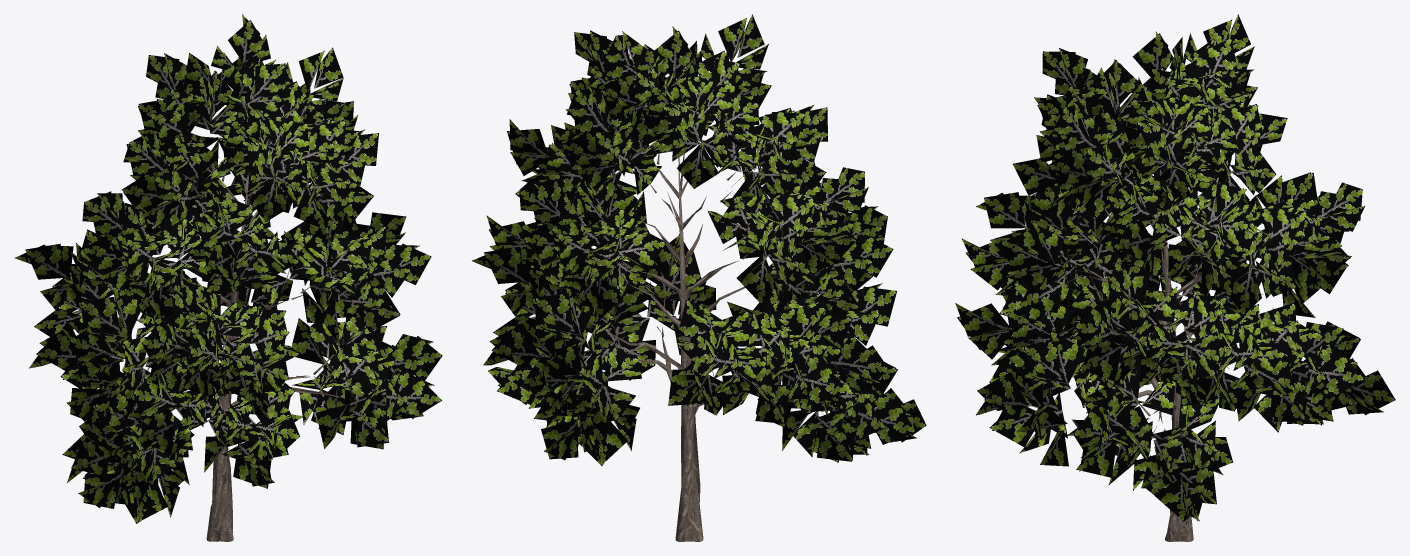
File: tree1.glb
3 renders of one model, left to right at view 1: azimuth 30°, elevation 25°; view 2: azimuth 150°, elevation 25°; view 3: azimuth 270°, elevation 25°, orthographic. The views are drawn at different scales.
Visible parts, largest first — view 1: Tree 1; view 2: Tree 1; view 3: Tree 1.
Boxes of the visible parts, <box> form: Tree 1: <box>15,14,442,541</box>; Tree 1: <box>472,14,926,541</box>; Tree 1: <box>955,14,1395,541</box>.
Size of the model in its own units: 5.16 by 6.42 by 4.9.
2 materials, 2 textured.
